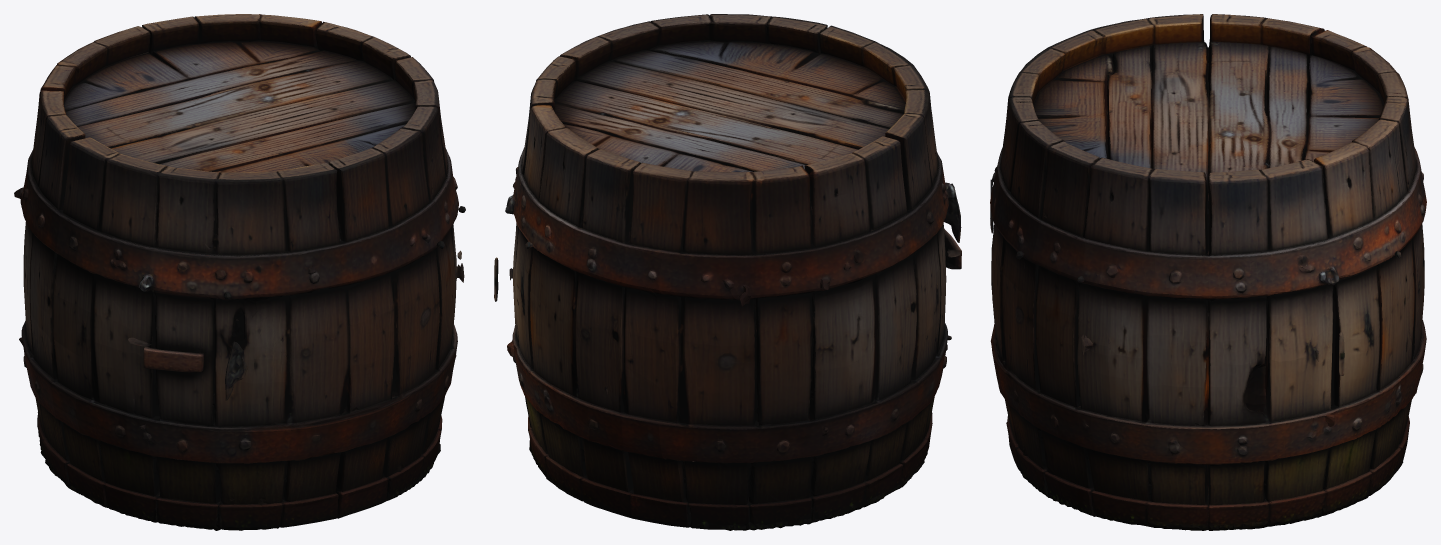
File: barril_innsmouth.glb
3 renders of one model, left to right at view 1: azimuth 30°, elevation 25°; view 2: azimuth 150°, elevation 25°; view 3: azimuth 270°, elevation 25°, orthographic.
Visible parts, largest first — view 1: world; view 2: world; view 3: world.
Part boxes in pixels (x1,y1,x2,y2): world: (14, 14, 465, 530); world: (494, 14, 961, 530); world: (990, 14, 1426, 530).
Bounding box in the file's own units: 0.9979 × 0.8902 × 0.998.
1 material, 1 textured.
